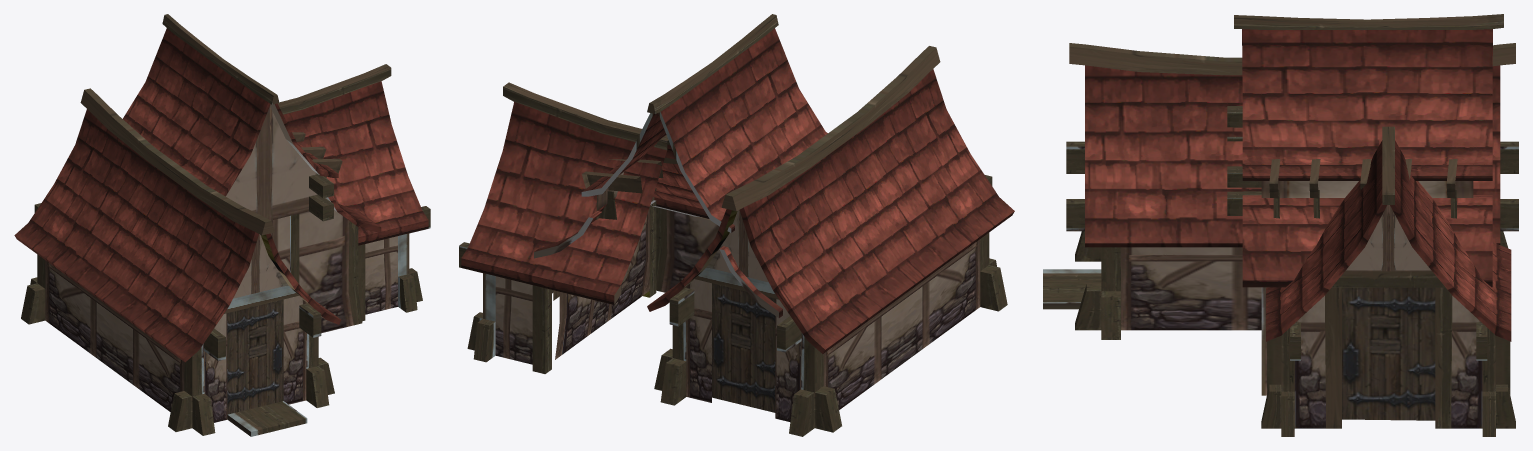
Rendered from bfcs_fangzi_01.FBX.
The picture shows the model from 3 angles, left to right: view 1: azimuth 30°, elevation 25°; view 2: azimuth 150°, elevation 25°; view 3: azimuth 270°, elevation 25°; orthographic projection. The views are drawn at different scales.
Parts seen in each view (by area): view 1: bfcs_fangzi_01; view 2: bfcs_fangzi_01; view 3: bfcs_fangzi_01.
Boxes of the visible parts, left/top/right/bottom form: bfcs_fangzi_01: left=14, top=14, right=430, bottom=436; bfcs_fangzi_01: left=459, top=14, right=1014, bottom=436; bfcs_fangzi_01: left=1043, top=14, right=1518, bottom=436.
Bounding box in the file's own units: 582 × 438 × 587.
